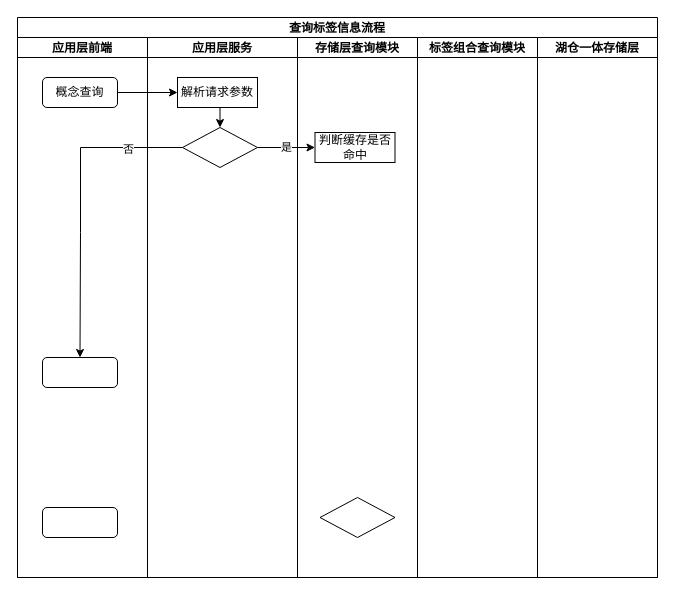
Some shapes in this 675 by 595 pixel diagram are drawn without their labels. Here are the shapes that lost their labels. From the top down, the centre of each, then its label:
At (220,147): "判断参数合法".
At (80,372): "返回错误信息".
At (80,522): "返回添加成功".
At (357,517): "判断是否是组合标签".
